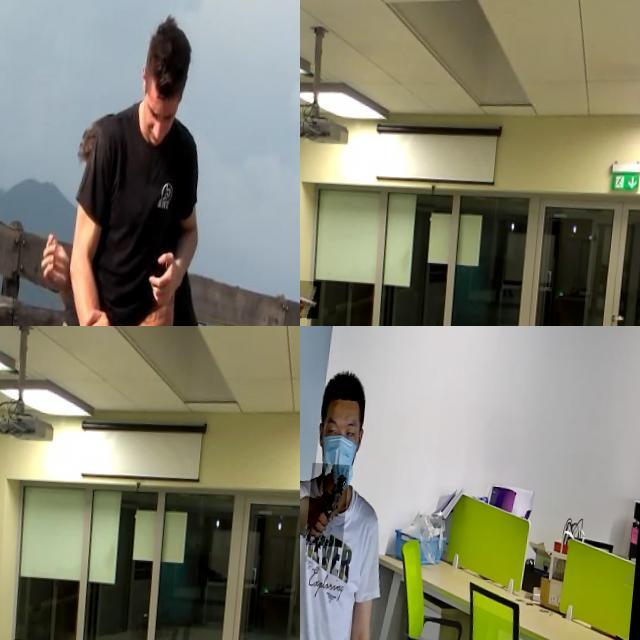gun-knife-thesis - v11 Yolov5 augmented: (312, 458, 354, 542), (300, 277, 326, 316)
